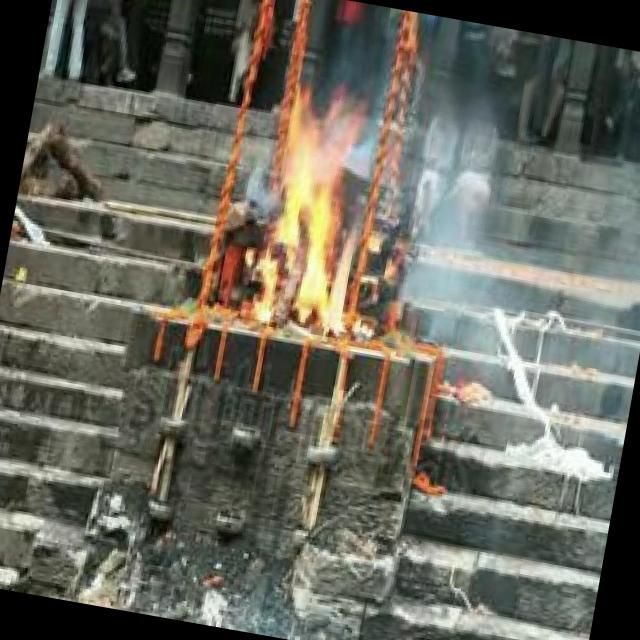Fire: (246, 91, 389, 332)
